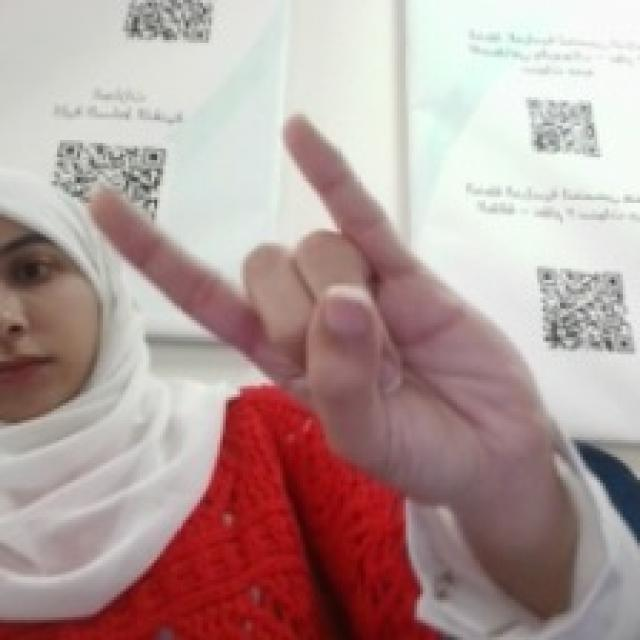No: (82, 103, 552, 506)
